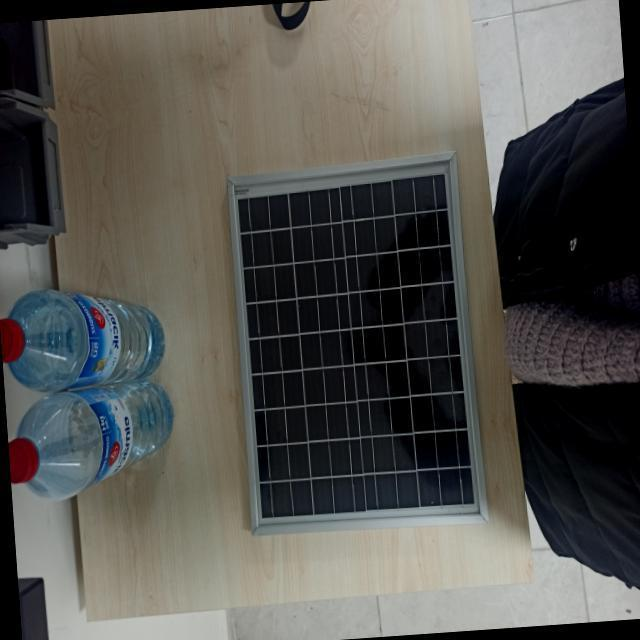no faulty: (236, 154, 484, 528)
